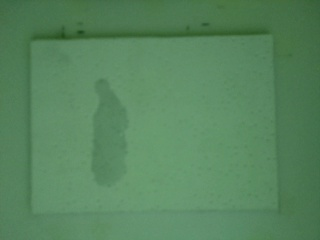Water_detected: (99, 104, 126, 184)
